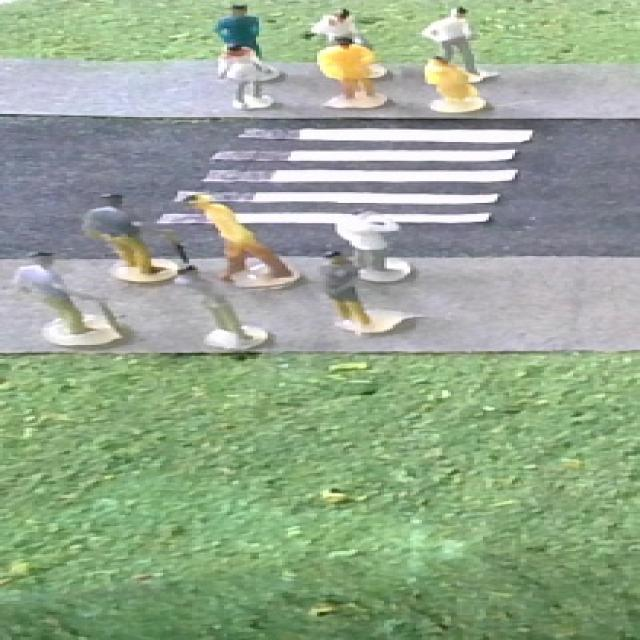person: (170, 251, 274, 355), (180, 181, 302, 269), (71, 187, 179, 280), (14, 250, 104, 342), (305, 37, 404, 116), (300, 246, 371, 337), (410, 52, 499, 118), (205, 42, 286, 114), (420, 6, 498, 55), (332, 204, 408, 249), (202, 1, 270, 43), (302, 2, 371, 37)
